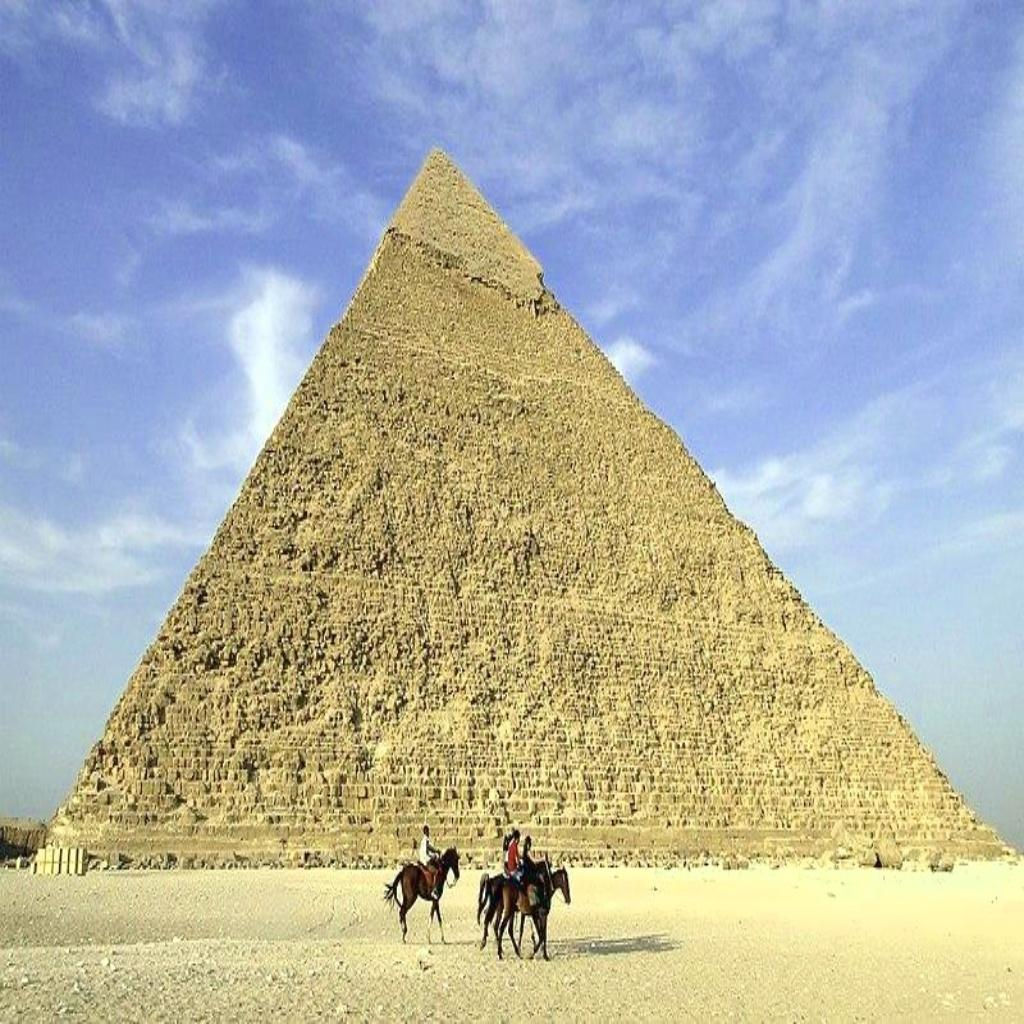Great Pyramids of Giza: (38, 138, 1010, 872)
